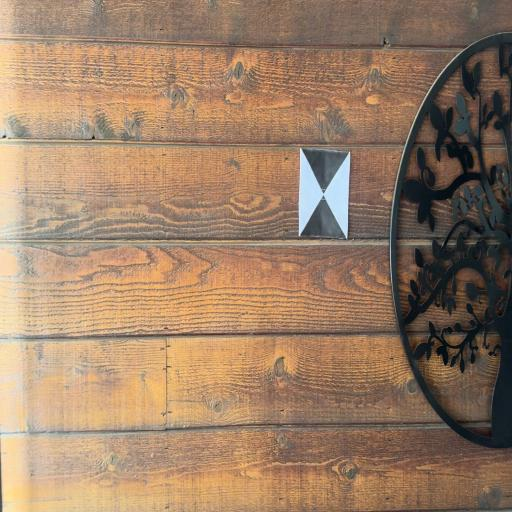target: (300, 148, 349, 239)
